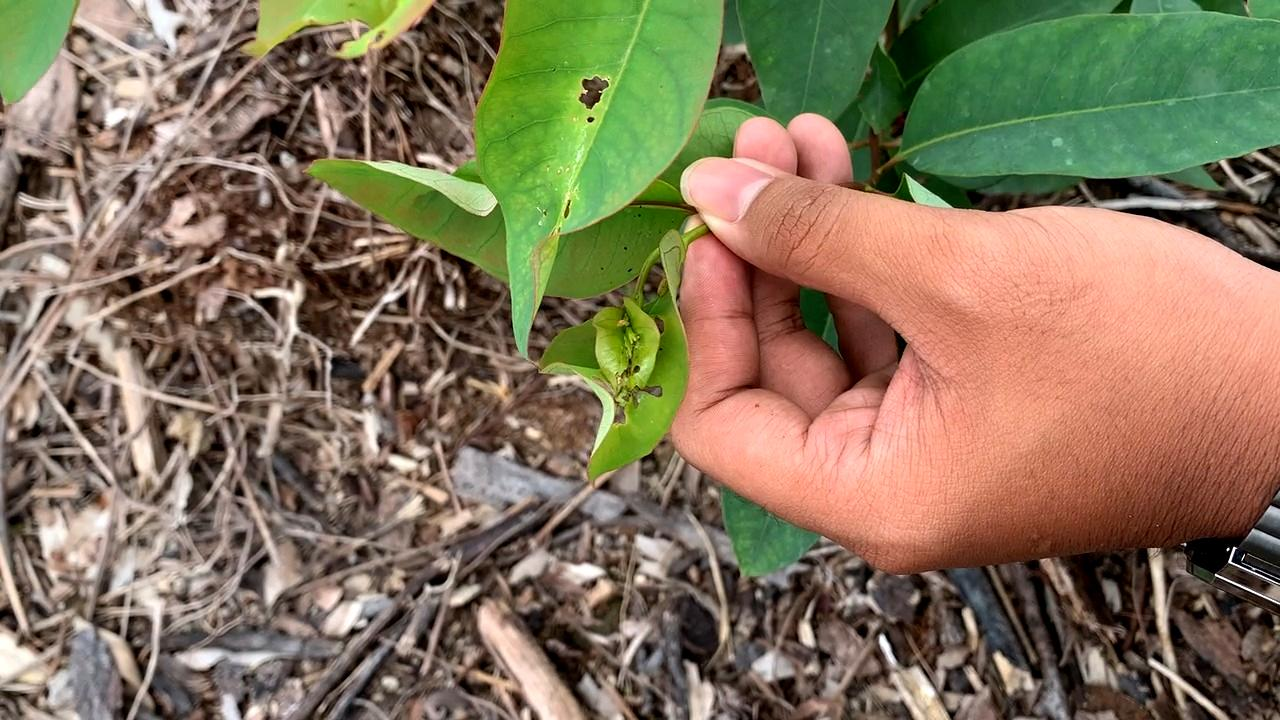Leaf Roller - Leaf: (587, 296, 670, 423)
